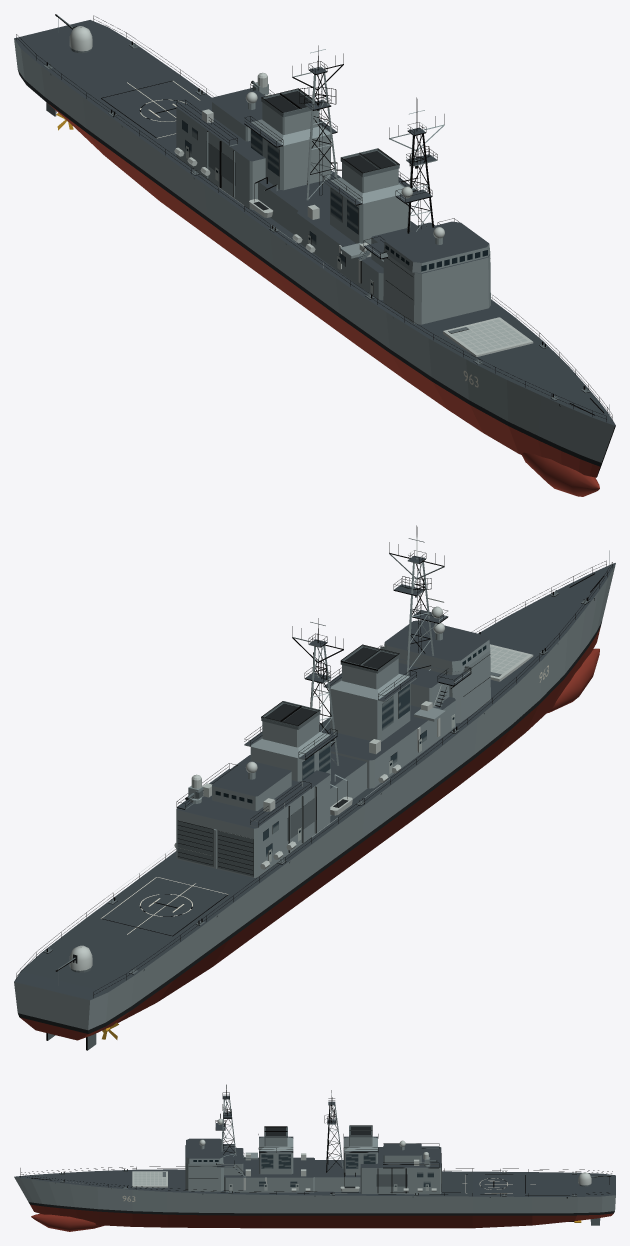
Rendered from hull_spruance.glb.
The picture shows the model from 3 angles, top to bottom: view 1: azimuth 30°, elevation 25°; view 2: azimuth 150°, elevation 25°; view 3: azimuth 270°, elevation 25°; orthographic projection. The views are drawn at different scales.
Visible parts, largest first — view 1: MESH_SPRUANCE_HULL; view 2: MESH_SPRUANCE_HULL; view 3: MESH_SPRUANCE_HULL.
Part boxes in pixels (<box>): MESH_SPRUANCE_HULL: <box>14,14,615,496</box>; MESH_SPRUANCE_HULL: <box>14,525,615,1050</box>; MESH_SPRUANCE_HULL: <box>14,1084,615,1231</box>.
Bounding box in the file's own units: 11.76 × 33.41 × 120.
Materials: 1 (1 with a texture image).
